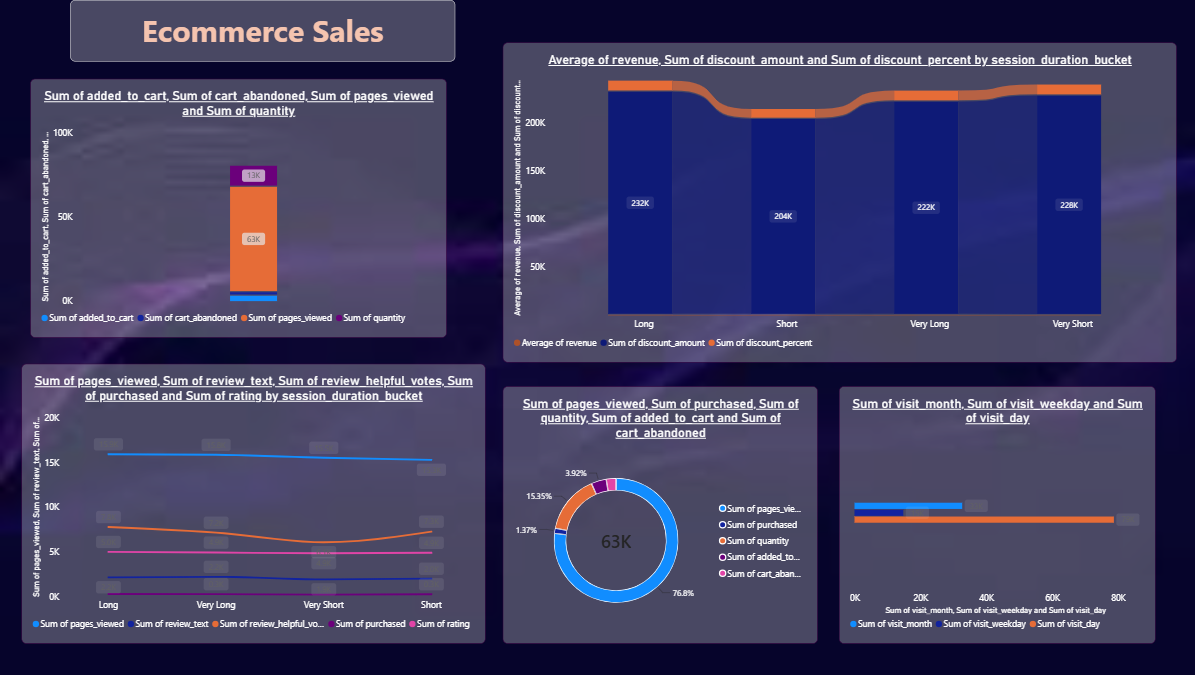

The page's visual inventory and layout, read from the dashboard file:
{"tool":"powerbi","page":{"name":"Page 1","canvas":[1920,1080],"ordinal":0},"visuals":[{"type":"textbox","box":[114,0,616,98],"z":0},{"type":"textbox","box":[10,290,280,280],"z":1000},{"type":"textbox","box":[10,580,280,280],"z":2000},{"type":"columnChart","fields":{"Category":["Dataset_project.session_duration_bucket"],"Y":["Avg(Dataset_project.revenue)","Sum(Dataset_project.discount_amount)","Sum(Dataset_project.discount_percent)"]},"box":[806,68,1078,512],"z":3000},{"type":"clusteredBarChart","fields":{"Y":["Sum(Dataset_project.visit_month)","Sum(Dataset_project.visit_weekday)","Sum(Dataset_project.visit_day)"]},"box":[1344,618,506,412],"z":4000},{"type":"donutChart","fields":{"Y":["Sum(Dataset_project.pages_viewed)","Sum(Dataset_project.purchased)","Sum(Dataset_project.quantity)","Sum(Dataset_project.added_to_cart)","Sum(Dataset_project.cart_abandoned)"]},"box":[806,618,504,412],"z":5000},{"type":"lineChart","fields":{"Category":["Dataset_project.session_duration_bucket"],"Y":["Sum(Dataset_project.pages_viewed)","Sum(Dataset_project.review_text)","Sum(Dataset_project.review_helpful_votes)","Sum(Dataset_project.purchased)","Sum(Dataset_project.rating)"]},"box":[36,582,742,448],"z":6000},{"type":"lineStackedColumnComboChart","fields":{"Y":["Sum(Dataset_project.added_to_cart)","Sum(Dataset_project.cart_abandoned)","Sum(Dataset_project.pages_viewed)","Sum(Dataset_project.quantity)"]},"box":[50,126,666,414],"z":7000}]}

Visuals, with their boxes in screenshot pixels (x1, y1, x2, y2), scaled from the page's 1920x1080 canvas onto the 1195x675 screenshot:
textbox: detection(71, 0, 454, 61)
textbox: detection(6, 181, 180, 356)
textbox: detection(6, 362, 180, 538)
columnChart - Dataset_project.session_duration_bucket x Avg(Dataset_project.revenue): detection(502, 42, 1173, 362)
clusteredBarChart - Sum(Dataset_project.visit_month) x Sum(Dataset_project.visit_weekday): detection(836, 386, 1151, 644)
donutChart - Sum(Dataset_project.pages_viewed) x Sum(Dataset_project.purchased): detection(502, 386, 815, 644)
lineChart - Dataset_project.session_duration_bucket x Sum(Dataset_project.pages_viewed): detection(22, 364, 484, 644)
lineStackedColumnComboChart - Sum(Dataset_project.added_to_cart) x Sum(Dataset_project.cart_abandoned): detection(31, 79, 446, 338)
